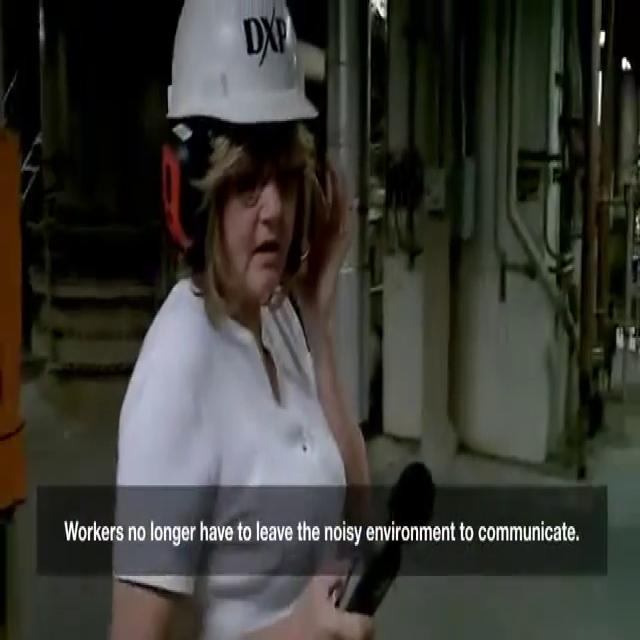earmuff: (159, 120, 207, 262)
